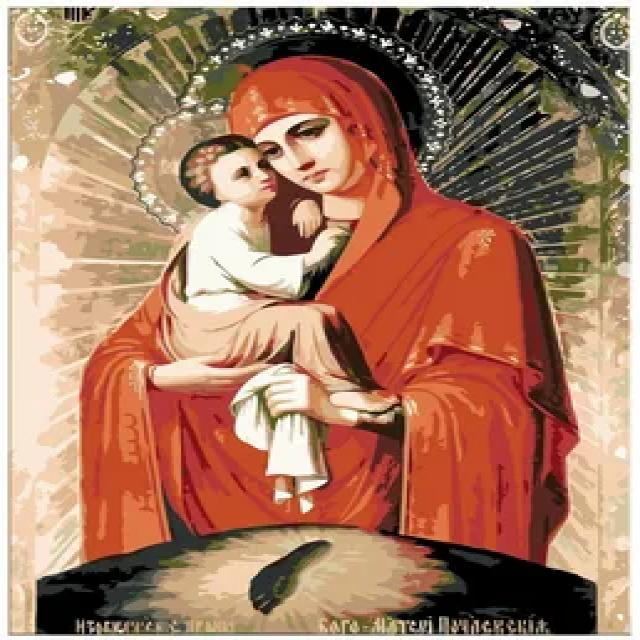mother of god: (57, 47, 580, 572)
